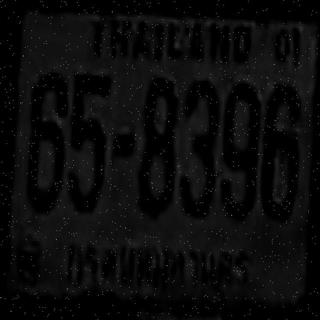N00: (216, 80, 262, 216)
N03: (176, 78, 220, 216)
N05: (68, 73, 110, 160)
N06: (23, 68, 68, 210), (258, 80, 303, 219)
N08: (134, 75, 180, 216)
N09: (216, 80, 262, 218)
P04: (59, 232, 259, 310)
